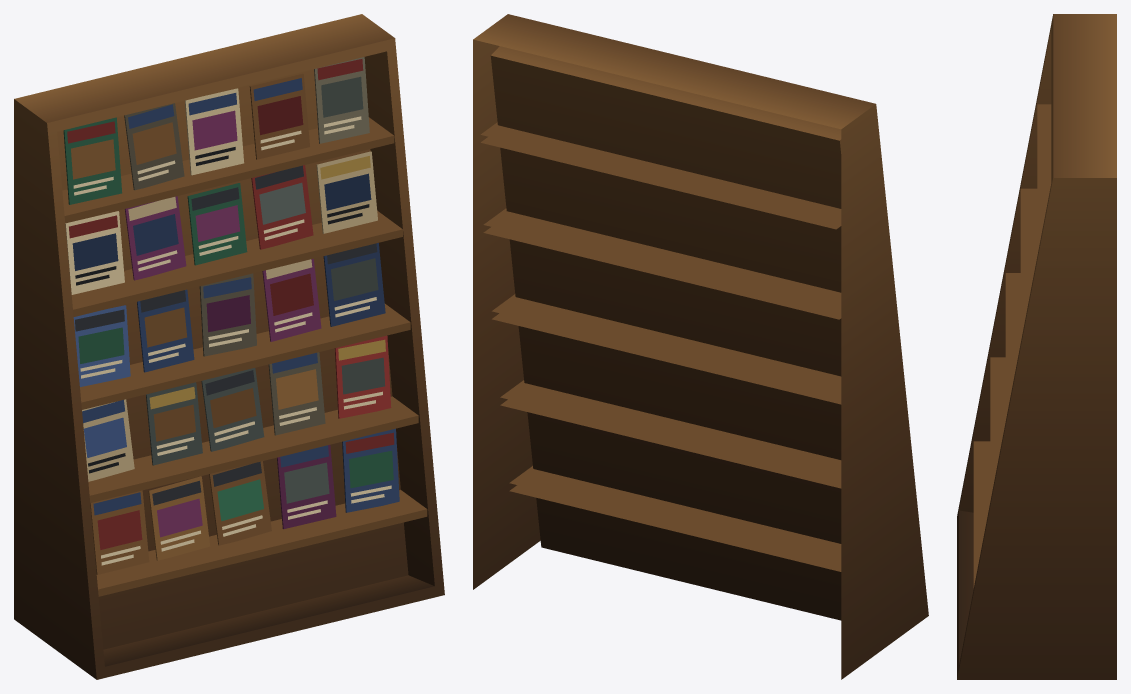
Rendered from SM_MagazineRack.fbx.
3 renders of one model, left to right at view 1: azimuth 30°, elevation 25°; view 2: azimuth 150°, elevation 25°; view 3: azimuth 270°, elevation 25°, orthographic. The views are drawn at different scales.
Visible parts, largest first — view 1: MagazineRack; view 2: MagazineRack; view 3: MagazineRack.
Part boxes in pixels (<box>): MagazineRack: <box>14,14,444,679</box>; MagazineRack: <box>473,14,928,679</box>; MagazineRack: <box>957,14,1116,679</box>.
Bounding box in the file's own units: 1.4 × 2 × 0.5767.
